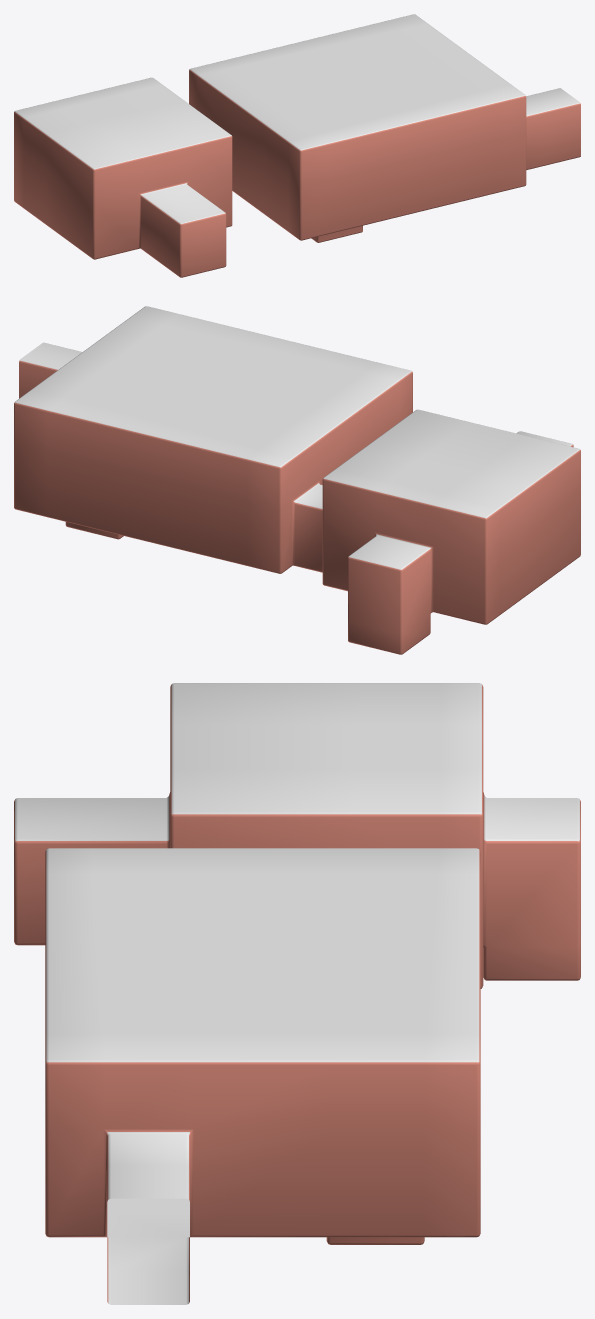
Rendered from Levels.fbx.
3 views of the same model, one above another, from view 1: azimuth 30°, elevation 25°; view 2: azimuth 150°, elevation 25°; view 3: azimuth 270°, elevation 25° (orthographic). The views are drawn at different scales.
Parts seen in each view (by area): view 1: Rooms; view 2: Rooms; view 3: Rooms.
Boxes of the visible parts, x1=… form: Rooms: x1=14, y1=14, x2=580, y2=277; Rooms: x1=14, y1=306, x2=580, y2=654; Rooms: x1=14, y1=683, x2=580, y2=1304.
Bounding box in the file's own units: 27 × 6 × 14.5.
